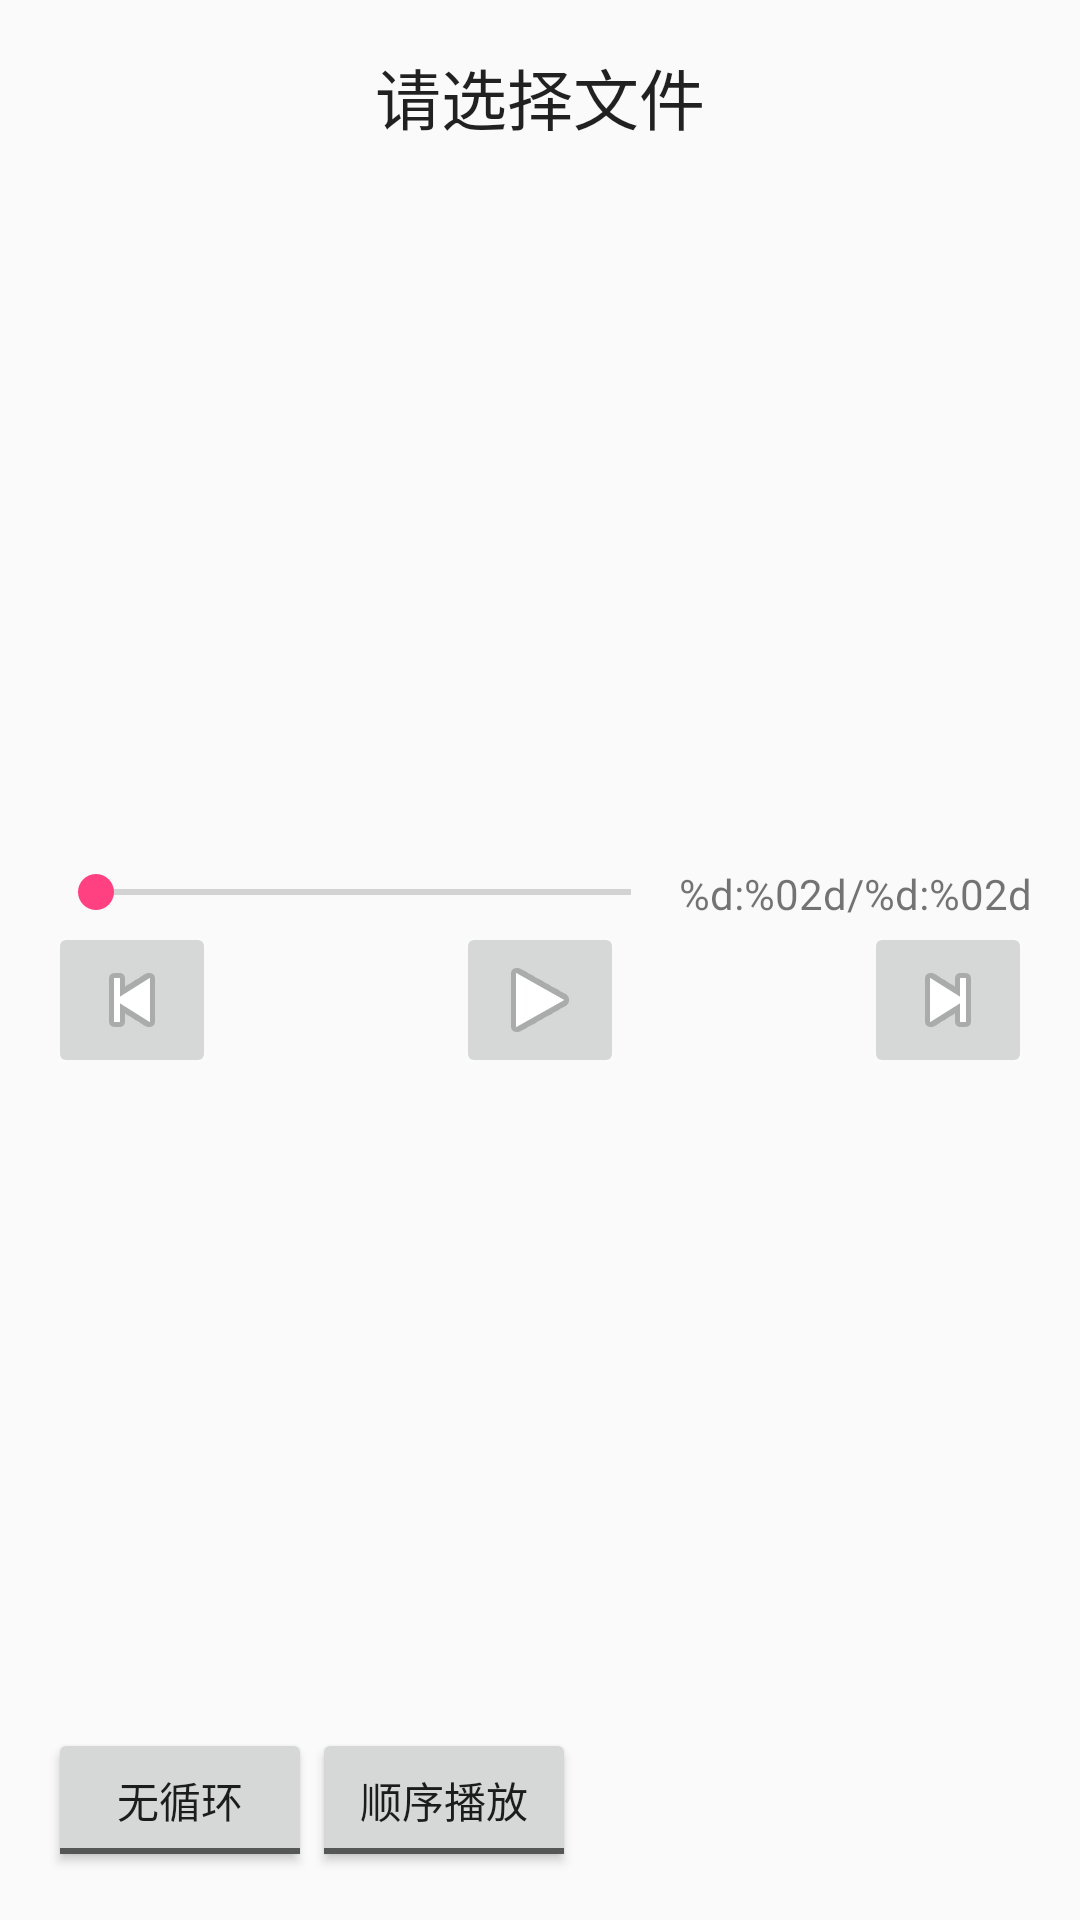

Icons on this 1080 × 1920 Android screen, each with its box as {"left": x1, "top": y1, "right": x2, "bottom": y2}:
上一曲: {"left": 60, "top": 940, "right": 204, "bottom": 1060}
下一曲: {"left": 876, "top": 940, "right": 1020, "bottom": 1060}
播放: {"left": 468, "top": 940, "right": 612, "bottom": 1060}
